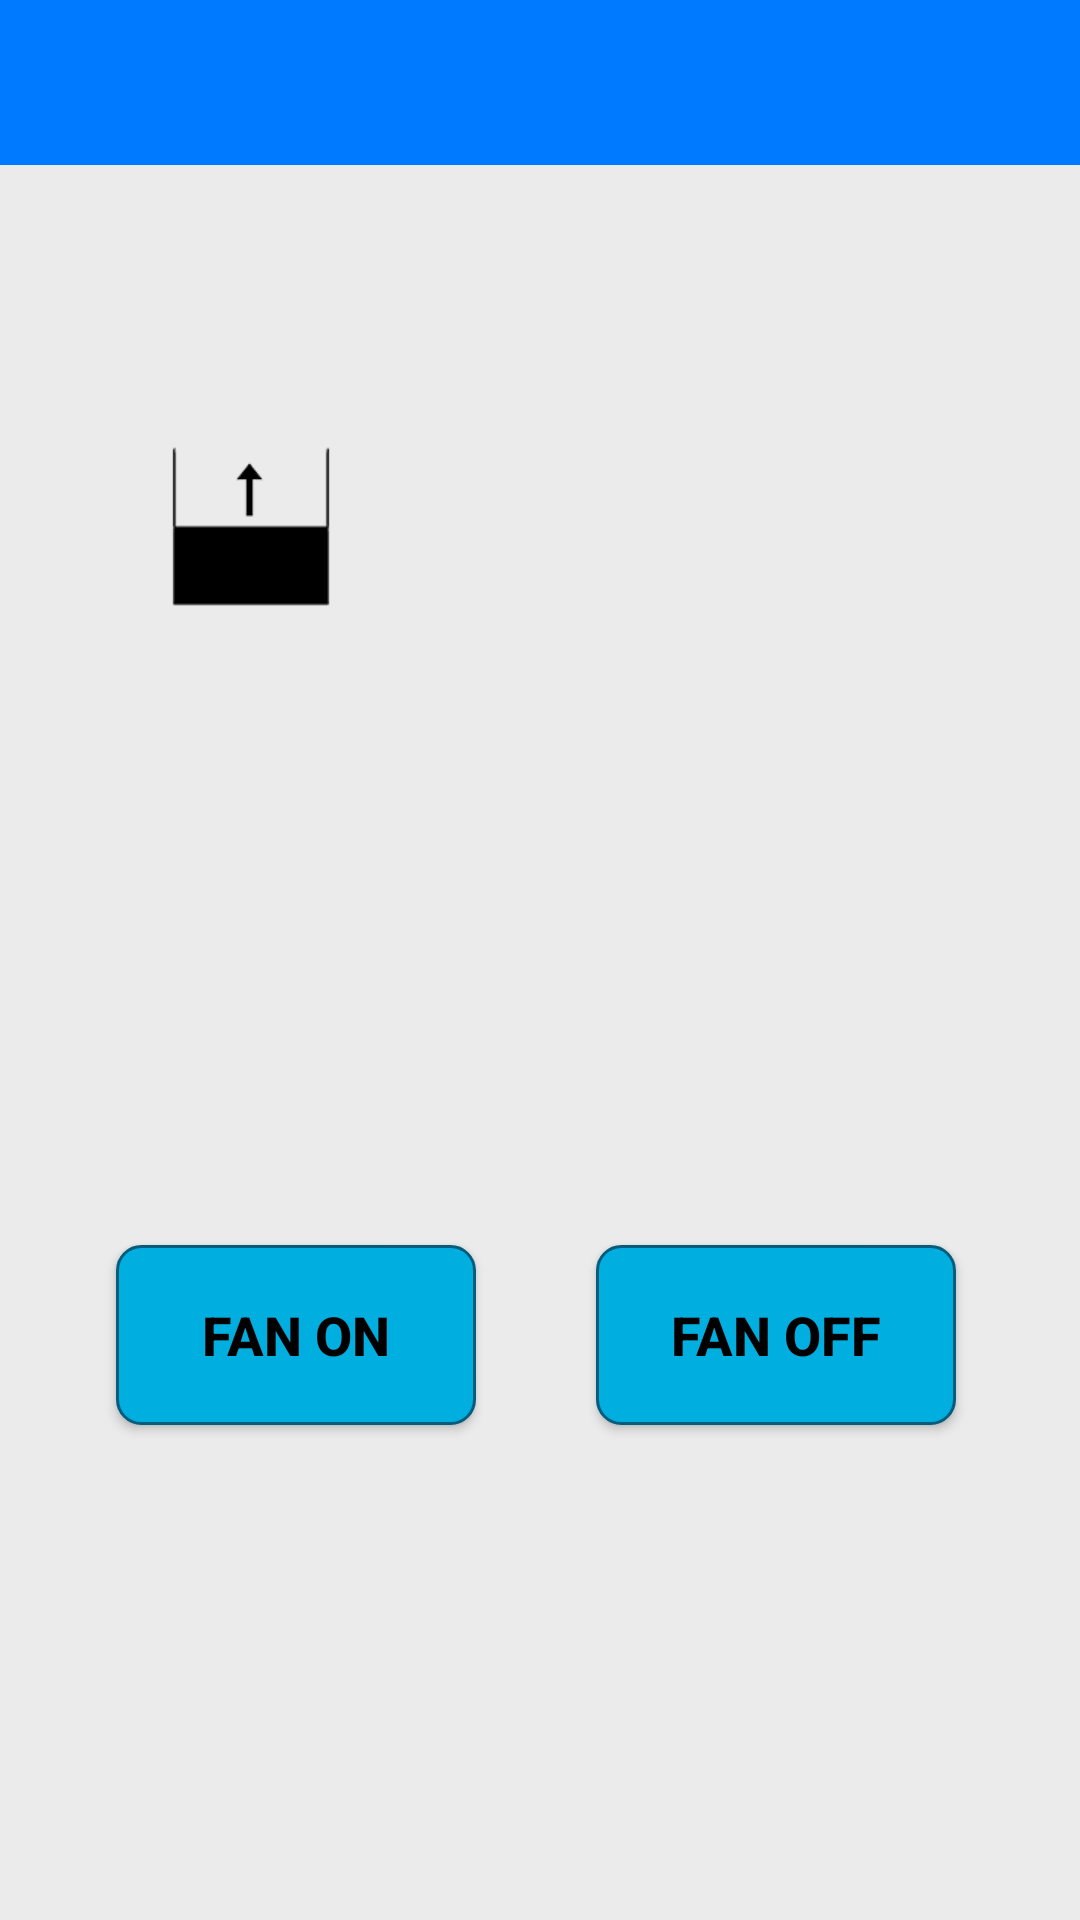

Icon bounding boxes for this 1080 x 1920 phone screenshot, format [left=x1, top=y1, right=x2, bottom=y2]:
level: [left=172, top=447, right=330, bottom=606]
